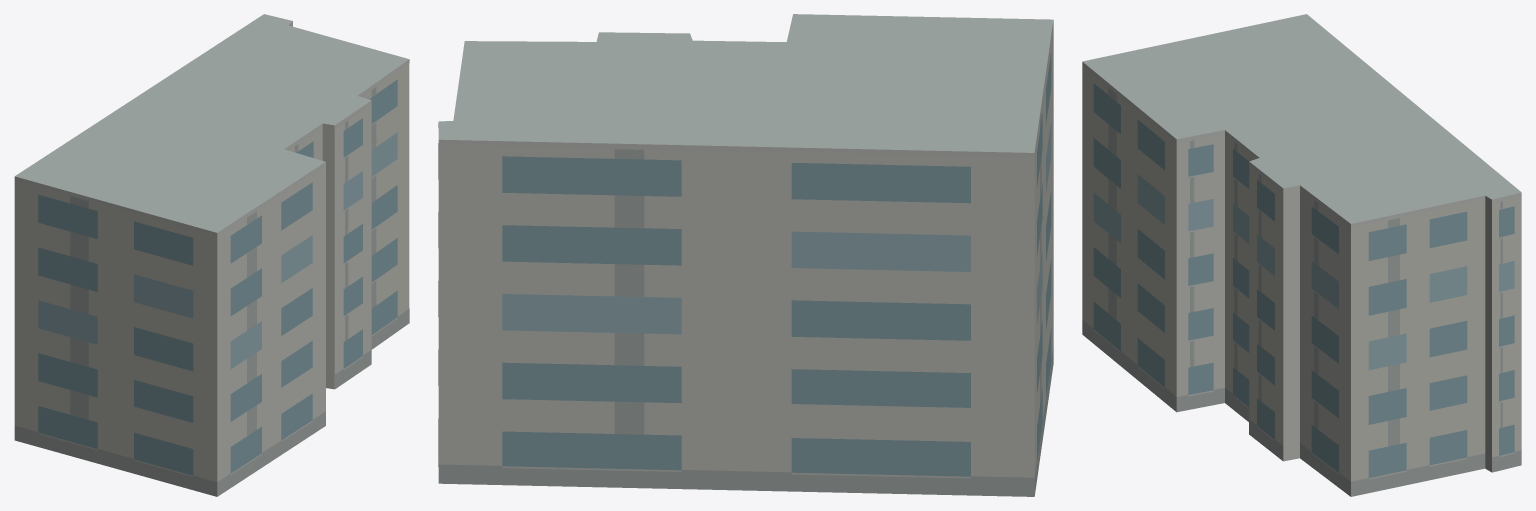
File: survey-upis-32748869.glb
3 views of the same model, side by side, from view 1: azimuth 30°, elevation 25°; view 2: azimuth 150°, elevation 25°; view 3: azimuth 270°, elevation 25° (orthographic). The views are drawn at different scales.
Parts seen in each view (by area): view 1: survey-upis-32748869.tmp; view 2: survey-upis-32748869.tmp; view 3: survey-upis-32748869.tmp.
Boxes of the visible parts, x1=… form: survey-upis-32748869.tmp: x1=14, y1=14, x2=409, y2=496; survey-upis-32748869.tmp: x1=438, y1=14, x2=1053, y2=496; survey-upis-32748869.tmp: x1=1082, y1=14, x2=1521, y2=496.
Size of the model in its own units: 25.16 by 15.25 by 22.26.
